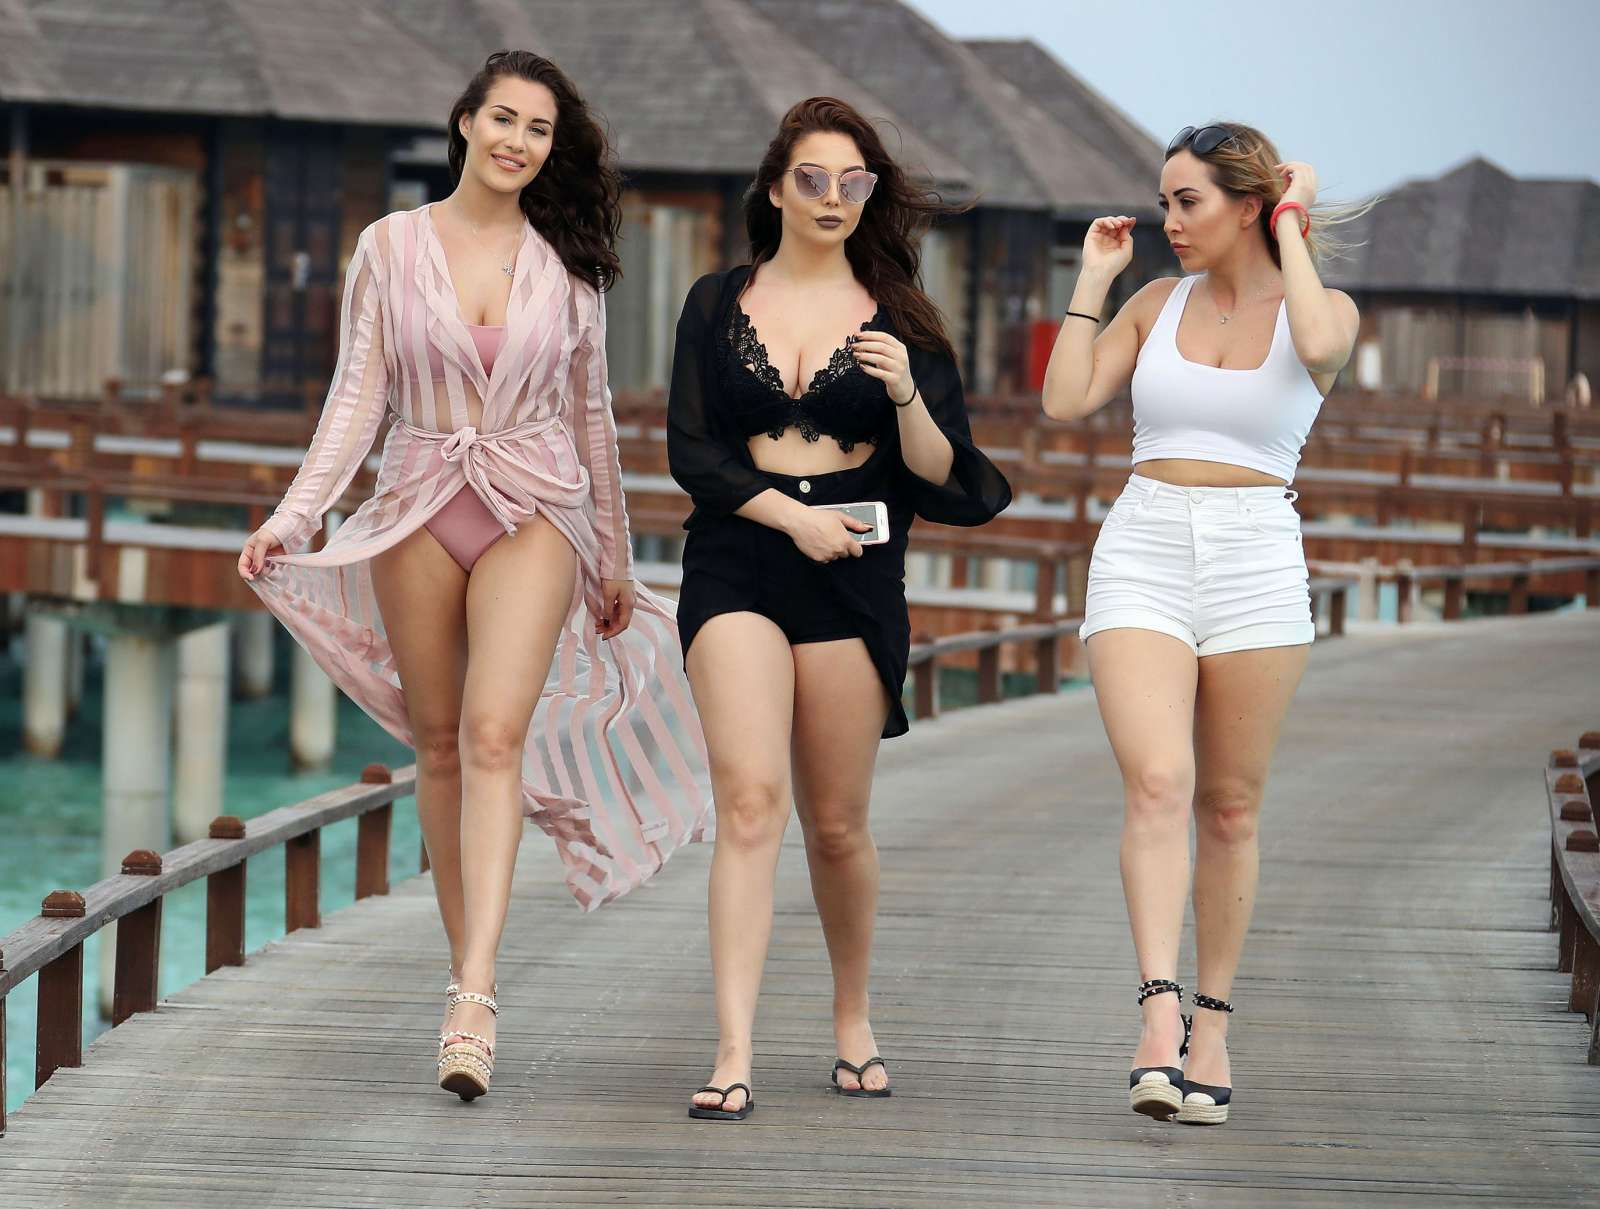Person: (235, 47, 637, 1104), (665, 93, 1013, 1122), (1039, 120, 1360, 1128)
